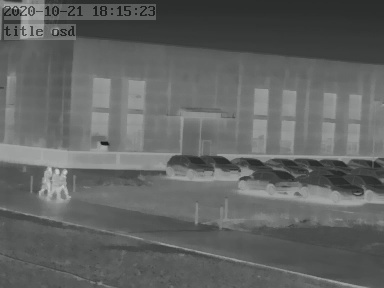person: (38, 166, 51, 197), (60, 169, 70, 199), (51, 168, 60, 200)
vehicle: (301, 174, 362, 204), (238, 171, 302, 196), (165, 153, 213, 179), (204, 153, 242, 177), (356, 172, 384, 204), (262, 155, 300, 171), (233, 155, 269, 171), (347, 156, 378, 169), (318, 156, 346, 169), (296, 156, 324, 169)
